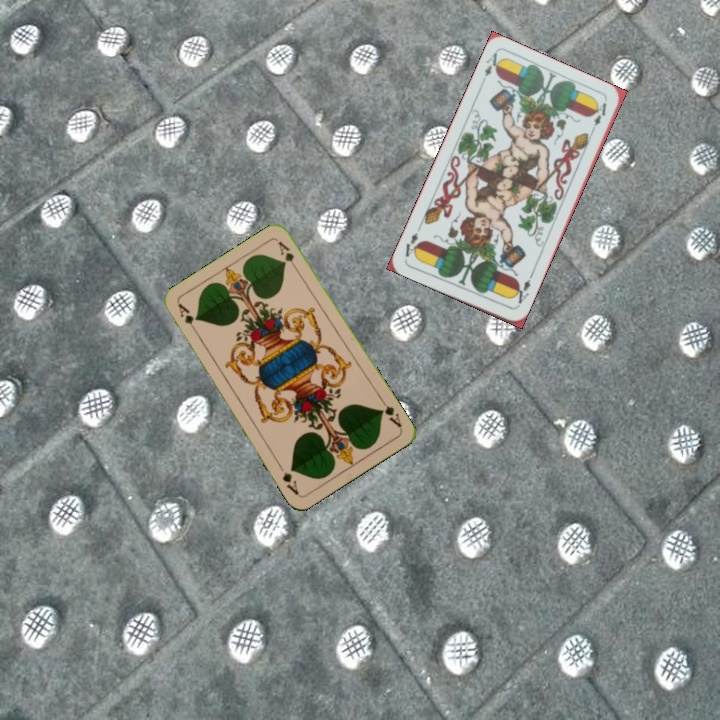EA: (477, 48, 504, 87), (509, 271, 535, 310)
GA: (174, 299, 201, 337), (376, 395, 405, 430)
